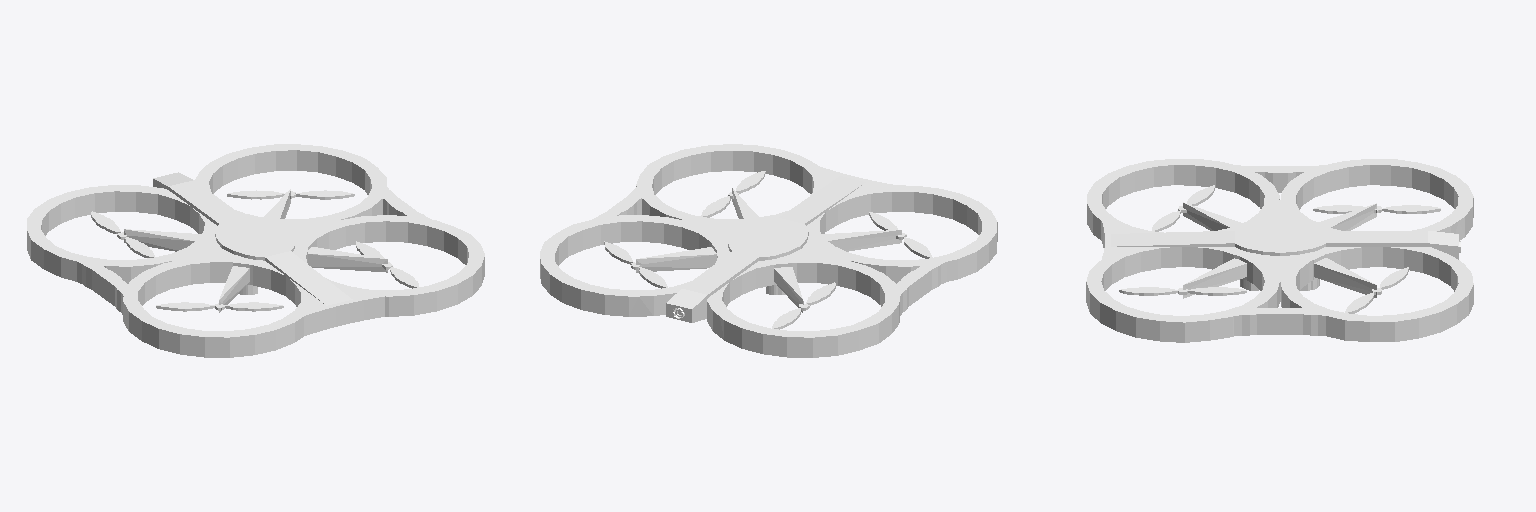
Rendered from Thing_3.obj.
3 renders of one model, left to right at view 1: azimuth 30°, elevation 25°; view 2: azimuth 150°, elevation 25°; view 3: azimuth 270°, elevation 25°, orthographic.
Parts seen in each view (by area): view 1: Mesh72_Group79_Model.1; view 2: Mesh72_Group79_Model.1; view 3: Mesh72_Group79_Model.1.
Part boxes in pixels (x1,y1,x2,y2): Mesh72_Group79_Model.1: (27,144,484,357); Mesh72_Group79_Model.1: (540,144,997,357); Mesh72_Group79_Model.1: (1086,159,1473,342).
Size of the model in its own units: 22 by 2.34 by 21.99.